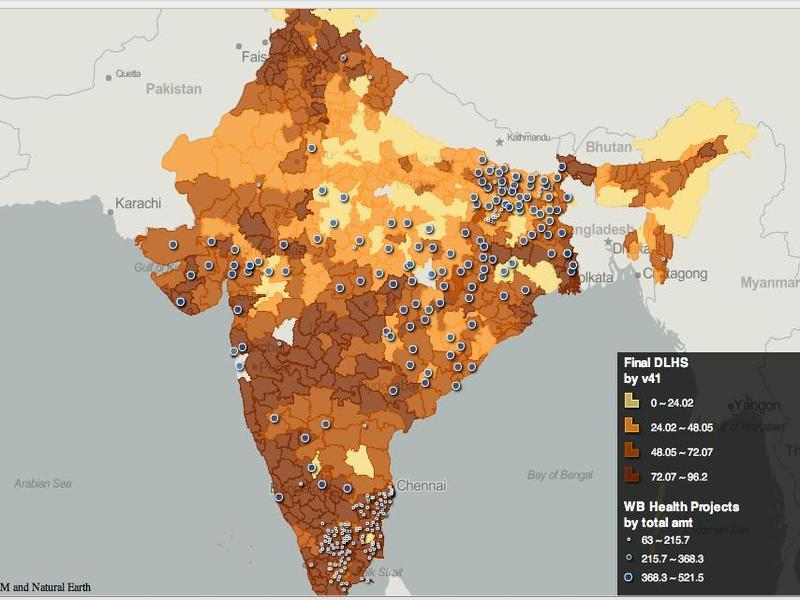legend: (616, 350, 800, 594)
